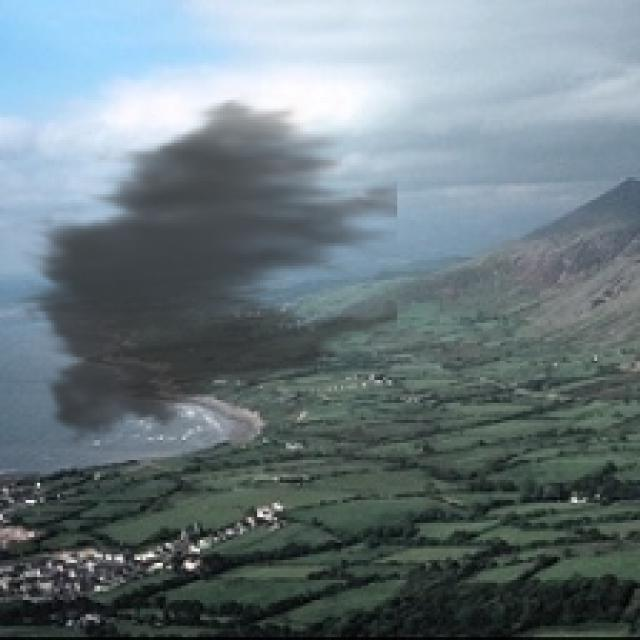smoke: (14, 89, 397, 454)
